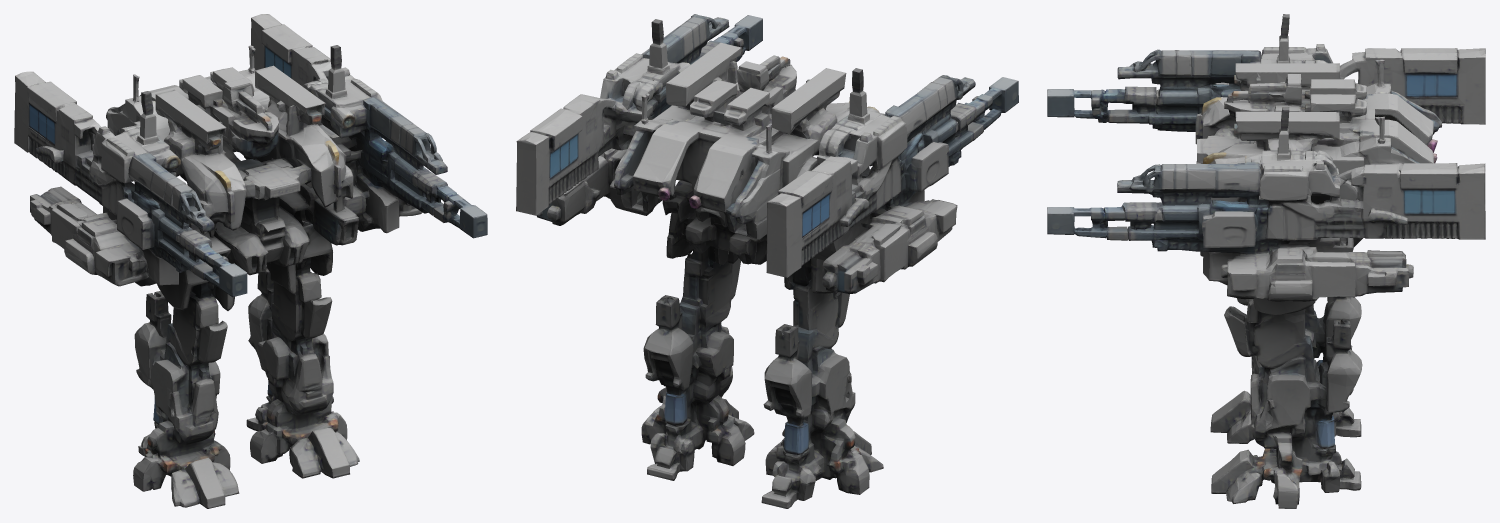
Rendered from mechTwo.glb.
3 renders of one model, left to right at view 1: azimuth 30°, elevation 25°; view 2: azimuth 150°, elevation 25°; view 3: azimuth 270°, elevation 25°, orthographic. The views are drawn at different scales.
Visible parts, largest first — view 1: world; view 2: world; view 3: world.
Boxes of the visible parts, x1,y1,x2,y2 form: world: (14, 14, 487, 508); world: (516, 14, 1018, 508); world: (1047, 14, 1485, 508).
Size of the model in its own units: 0.8681 by 1 by 1.
1 material, 1 textured.
